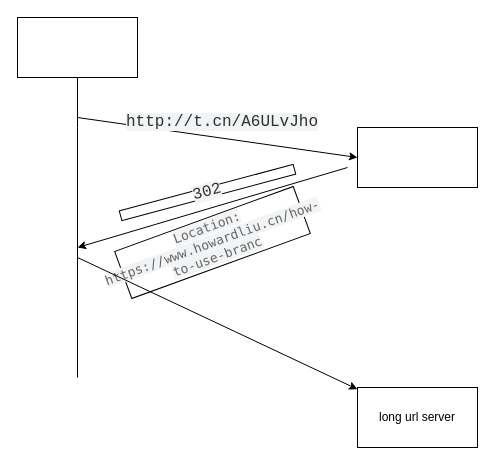
This 495x465 diagram has some shape labels left out. Each missing label, with the centre of its shape:
client: (77,47)
short url server: (417,157)
